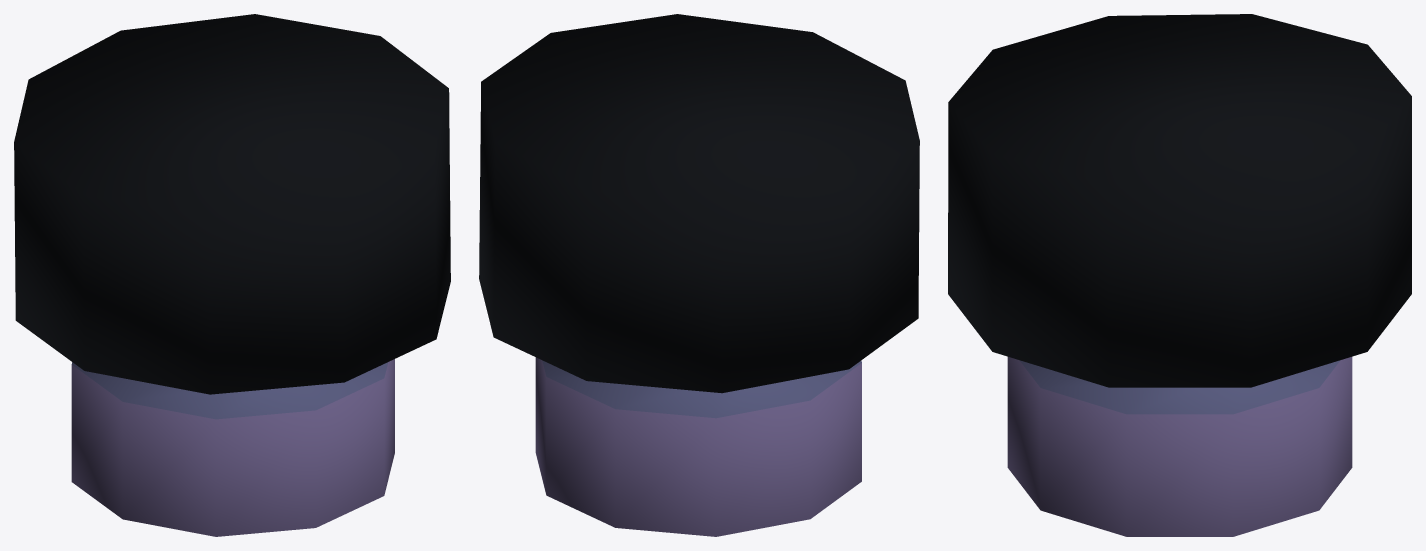
The model's file is hotplate_button.fbx.
The picture shows the model from 3 angles, left to right: view 1: azimuth 30°, elevation 25°; view 2: azimuth 150°, elevation 25°; view 3: azimuth 270°, elevation 25°; orthographic projection. The views are drawn at different scales.
Parts seen in each view (by area): view 1: hotplate_button; view 2: hotplate_button; view 3: hotplate_button.
Part boxes in pixels (x1=…): hotplate_button: x1=14, y1=14, x2=450, y2=536; hotplate_button: x1=479, y1=14, x2=919, y2=536; hotplate_button: x1=948, y1=14, x2=1411, y2=536.
Size of the model in its own units: 8.93 by 8.39 by 9.34.
